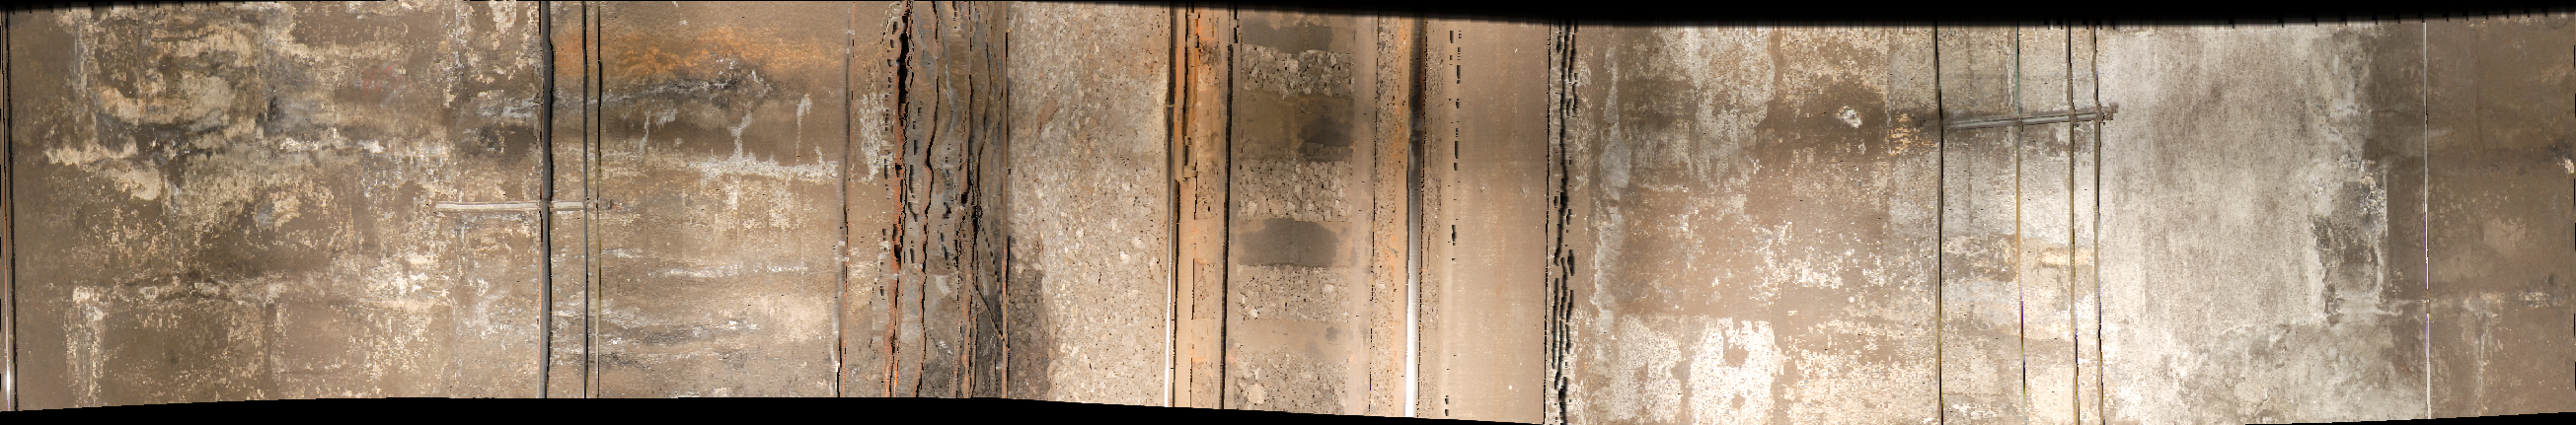pipes: (882, 3, 1007, 425), (532, 2, 616, 425), (2062, 28, 2124, 425), (1911, 28, 1960, 425), (1999, 26, 2037, 425)
tracks: (1171, 8, 1457, 425)
